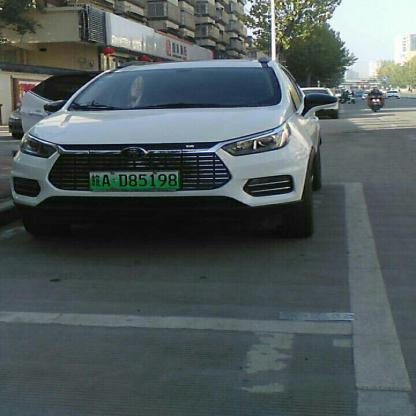lp: (90, 172, 178, 188)
